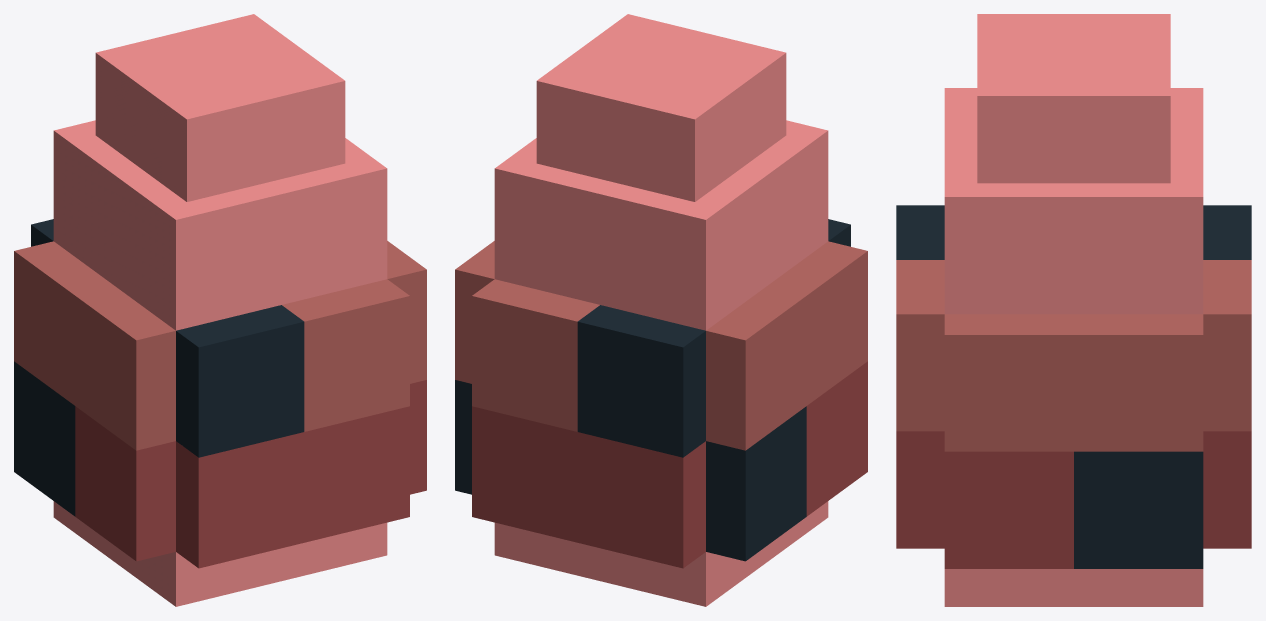
The model's file is egg_spinosaurus.obj.
3 renders of one model, left to right at view 1: azimuth 30°, elevation 25°; view 2: azimuth 150°, elevation 25°; view 3: azimuth 270°, elevation 25°, orthographic. The views are drawn at different scales.
Visible parts, largest first — view 1: egg_spinosaurus; view 2: egg_spinosaurus; view 3: egg_spinosaurus.
Boxes of the visible parts, left/top/right/bottom form: egg_spinosaurus: left=14, top=14, right=426, bottom=606; egg_spinosaurus: left=455, top=14, right=867, bottom=606; egg_spinosaurus: left=896, top=14, right=1251, bottom=606.
Size of the model in its own units: 6.39 by 9.88 by 6.4.
